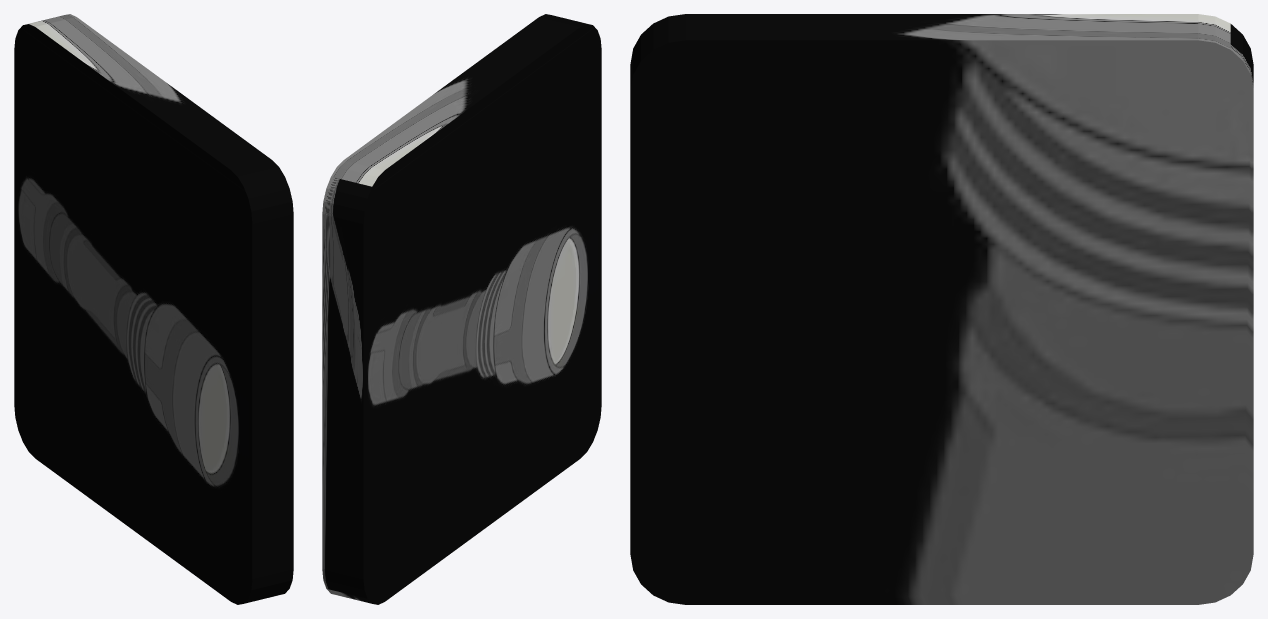
The model's file is icon.glb.
3 views of the same model, side by side, from view 1: azimuth 30°, elevation 25°; view 2: azimuth 150°, elevation 25°; view 3: azimuth 270°, elevation 25° (orthographic). The views are drawn at different scales.
Visible parts, largest first — view 1: Cubo.049; view 2: Cubo.049; view 3: Cubo.049.
Part boxes in pixels (x1,y1,x2,y2): Cubo.049: (14,14,293,604); Cubo.049: (322,14,601,604); Cubo.049: (630,14,1253,604).
Bounding box in the file's own units: 0.1 × 1 × 1.
Materials: 1 (1 with a texture image).
